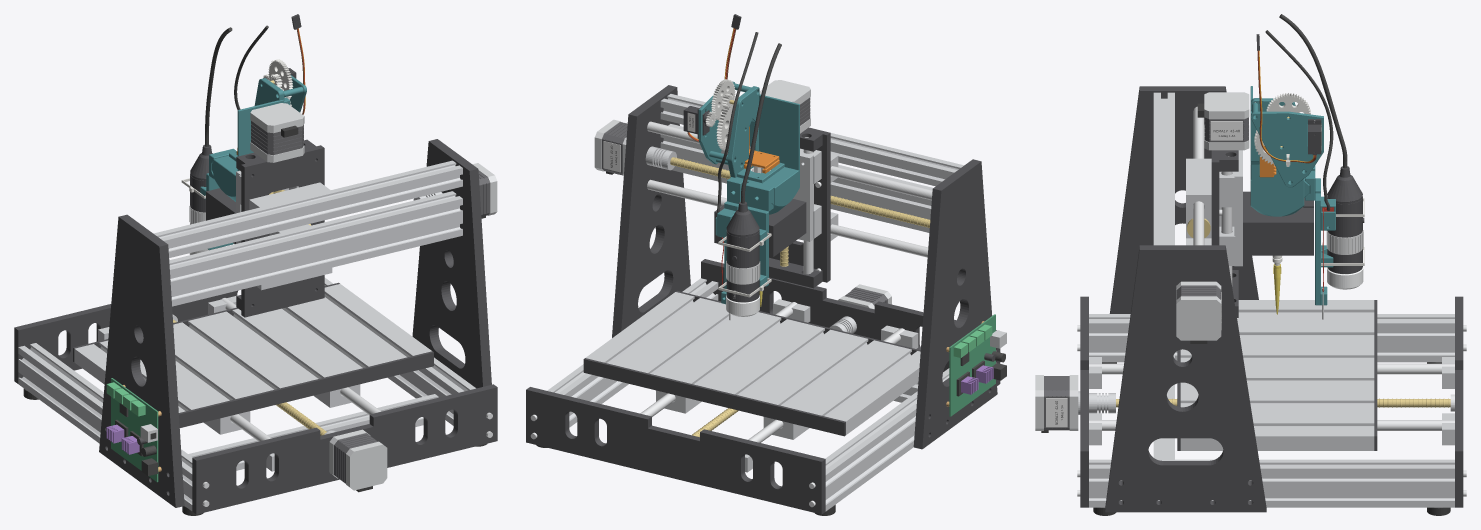
The model's file is cnc3018.glb.
The picture shows the model from 3 angles, left to right: view 1: azimuth 30°, elevation 25°; view 2: azimuth 150°, elevation 25°; view 3: azimuth 270°, elevation 25°; orthographic projection. The views are drawn at different scales.
Visible parts, largest first — view 1: cnc_base__black, cnc_base__alu, cnc_y_bed__alu, cnc_x_carriage__black, cnc_y_bed__black, cnc_z__petg_print, cnc_base__cap, cnc_base__pcb, cnc_x_carriage__cap, cnc_x_carriage__alu, cnc_base__stepper, cnc_base__steel (+8 smaller); view 2: cnc_base__black, cnc_y_bed__alu, cnc_base__alu, cnc_z__petg_print, cnc_base__steel, cnc_y_bed__black, cnc_x_carriage__black, cnc_z__abs_black, cnc_base__pcb, cnc_base__brass, cnc_z__black, cnc_z__alu (+9 smaller); view 3: cnc_base__black, cnc_base__alu, cnc_y_bed__alu, cnc_z__petg_print, cnc_base__steel, cnc_z__black, cnc_base__cap, cnc_z__abs_black, cnc_z__alu, cnc_x_carriage__cap, cnc_x_carriage__alu, cnc_z__cable_pvc_black (+9 smaller).
Part boxes in pixels (<box>): cnc_base__black: <box>14,139,497,514</box>; cnc_base__alu: <box>18,160,475,510</box>; cnc_y_bed__alu: <box>74,284,431,434</box>; cnc_x_carriage__black: <box>236,139,324,317</box>; cnc_y_bed__black: <box>73,282,433,427</box>; cnc_z__petg_print: <box>200,75,306,250</box>; cnc_base__cap: <box>329,163,497,490</box>; cnc_base__pcb: <box>111,378,158,482</box>; cnc_x_carriage__cap: <box>250,103,304,162</box>; cnc_x_carriage__alu: <box>249,182,332,290</box>; cnc_base__stepper: <box>334,171,489,483</box>; cnc_base__steel: <box>172,298,492,506</box>; cnc_base__black: <box>526,85,1000,514</box>; cnc_y_bed__alu: <box>585,292,920,439</box>; cnc_base__alu: <box>547,94,996,511</box>; cnc_z__petg_print: <box>698,81,799,304</box>; cnc_base__steel: <box>530,121,932,507</box>; cnc_y_bed__black: <box>583,291,920,436</box>; cnc_x_carriage__black: <box>769,127,830,288</box>; cnc_z__abs_black: <box>683,14,759,302</box>; cnc_base__pcb: <box>949,314,995,416</box>; cnc_base__brass: <box>670,157,930,437</box>; cnc_z__black: <box>714,199,806,256</box>; cnc_z__alu: <box>749,146,821,241</box>; cnc_base__black: <box>1080,86,1463,512</box>; cnc_base__alu: <box>1078,92,1454,507</box>; cnc_y_bed__alu: <box>1180,300,1374,450</box>; cnc_z__petg_print: <box>1250,86,1335,305</box>; cnc_base__steel: <box>1077,106,1466,496</box>; cnc_z__black: <box>1243,191,1313,255</box>; cnc_base__cap: <box>1035,281,1221,430</box>; cnc_z__abs_black: <box>1256,34,1364,273</box>; cnc_z__alu: <box>1219,150,1242,266</box>; cnc_x_carriage__cap: <box>1204,92,1249,150</box>; cnc_x_carriage__alu: <box>1186,158,1211,245</box>; cnc_z__cable_pvc_black: <box>1265,14,1347,210</box>.
Bounding box in the file's own units: 425 × 432 × 401.
